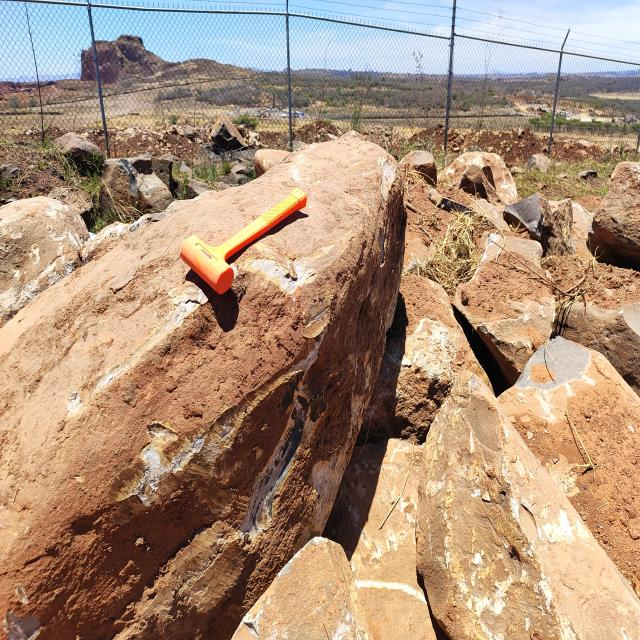Orange_hammer: (180, 187, 308, 296)
